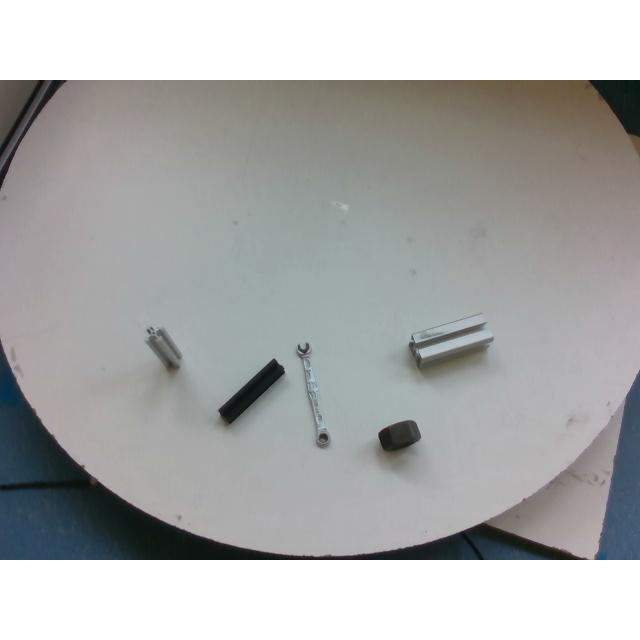F20_20_B: (218, 359, 284, 423)
F20_20_G: (145, 326, 181, 370)
M30: (378, 418, 420, 449)
S40_40_G: (409, 313, 493, 367)
Wrench: (298, 342, 330, 446)
